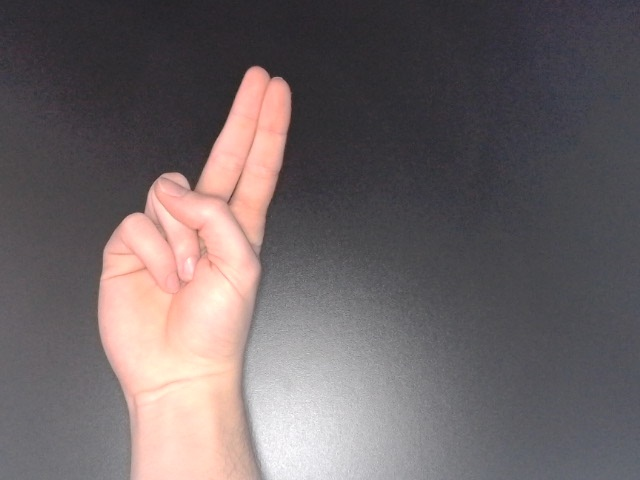u: (85, 60, 304, 425)
